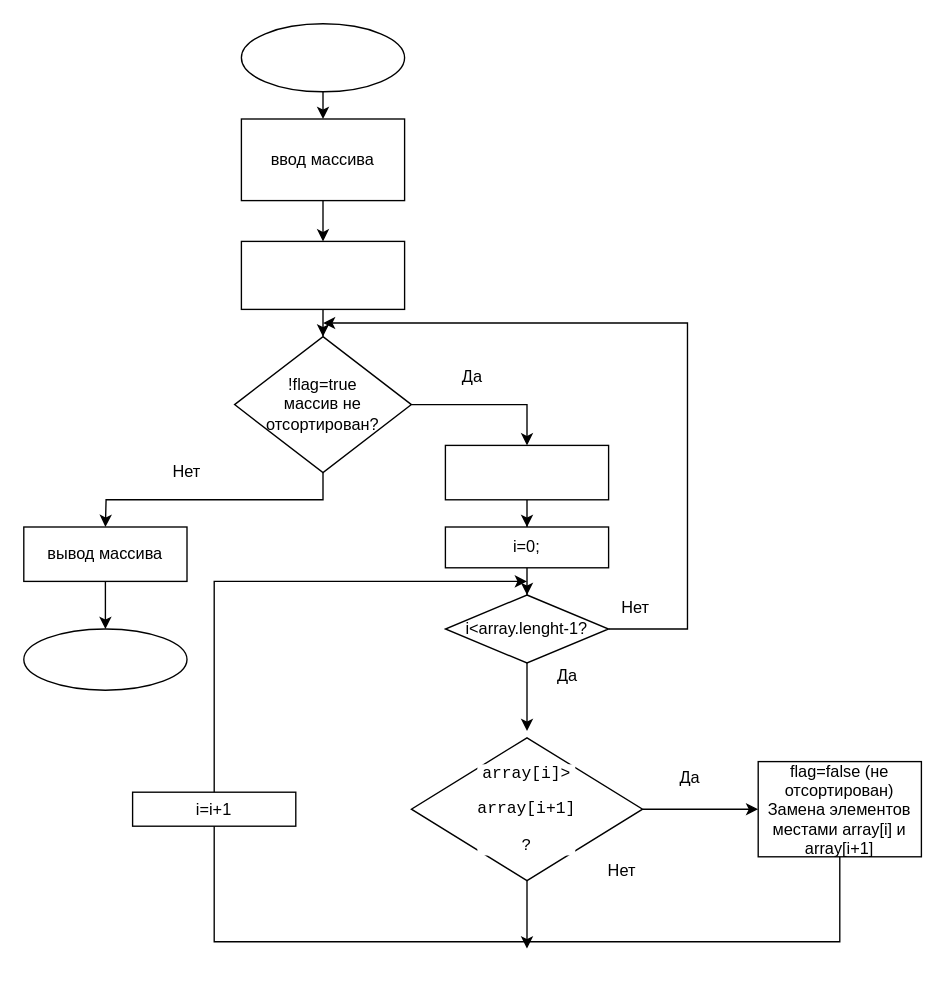
Some shapes in this 945 by 983 pixel diagram are drawn without their labels. Here are the shapes that lost their labels. From the top down, the centre of each, then its label:
At (322,57): "начало".
At (322,274): "flag=false temp=0".
At (526,472): "массив отсортирован flag =true;".
At (104,659): "конец".
